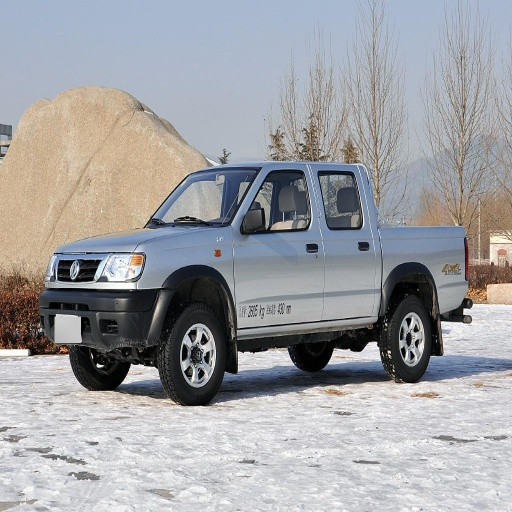front_bumper: (41, 253, 170, 360)
front_glass: (147, 170, 257, 225)
front_left_door: (234, 170, 326, 328)
trunk: (336, 215, 464, 321)
